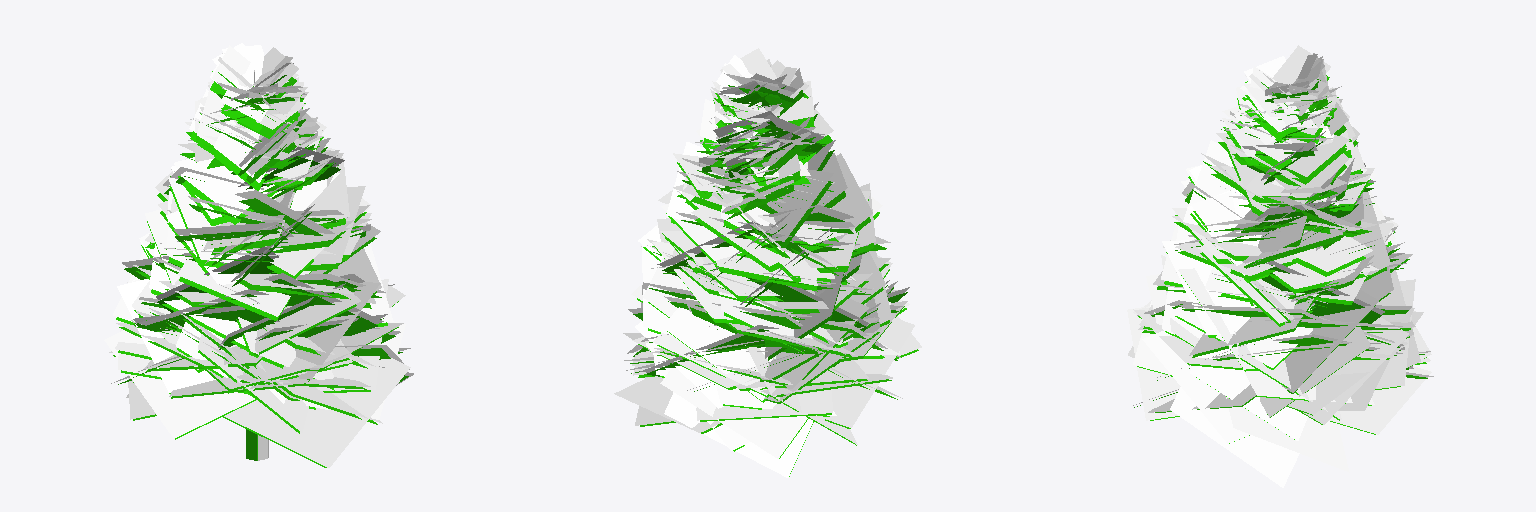
File: badly_cell_shaded_tree.obj
3 renders of one model, left to right at view 1: azimuth 30°, elevation 25°; view 2: azimuth 150°, elevation 25°; view 3: azimuth 270°, elevation 25°, orthographic.
Visible parts, largest first — view 1: mesh02, mesh01; view 2: mesh02, mesh01; view 3: mesh02, mesh01.
Part boxes in pixels (x1,y1,x2,y2): mesh02: (104,43,413,467); mesh01: (113,71,408,467); mesh02: (614,48,921,477); mesh01: (630,85,918,476); mesh02: (1127,45,1433,487); mesh01: (1134,75,1427,443).
Bounding box in the file's own units: 33.86 × 48.52 × 34.36.